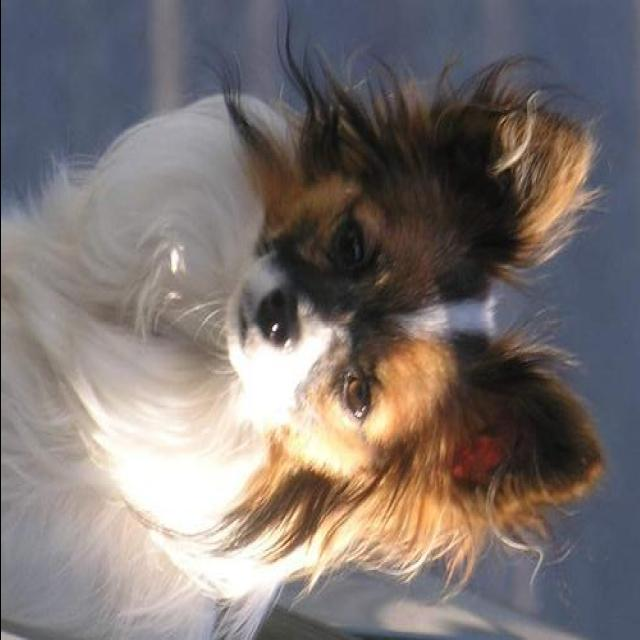papillon: (2, 16, 604, 637)
